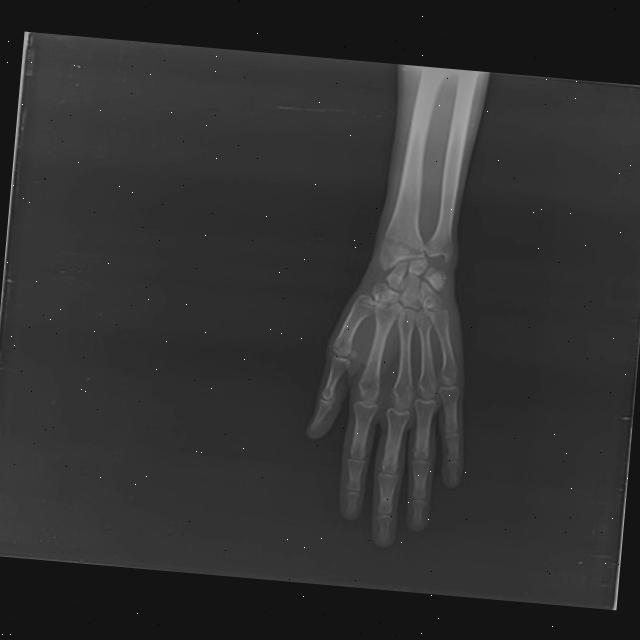Fracture: (378, 226, 432, 261)
